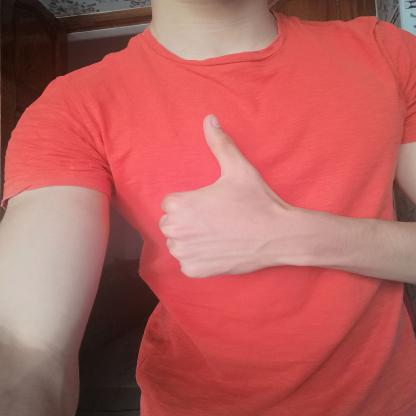ALIF: (140, 104, 315, 291)
